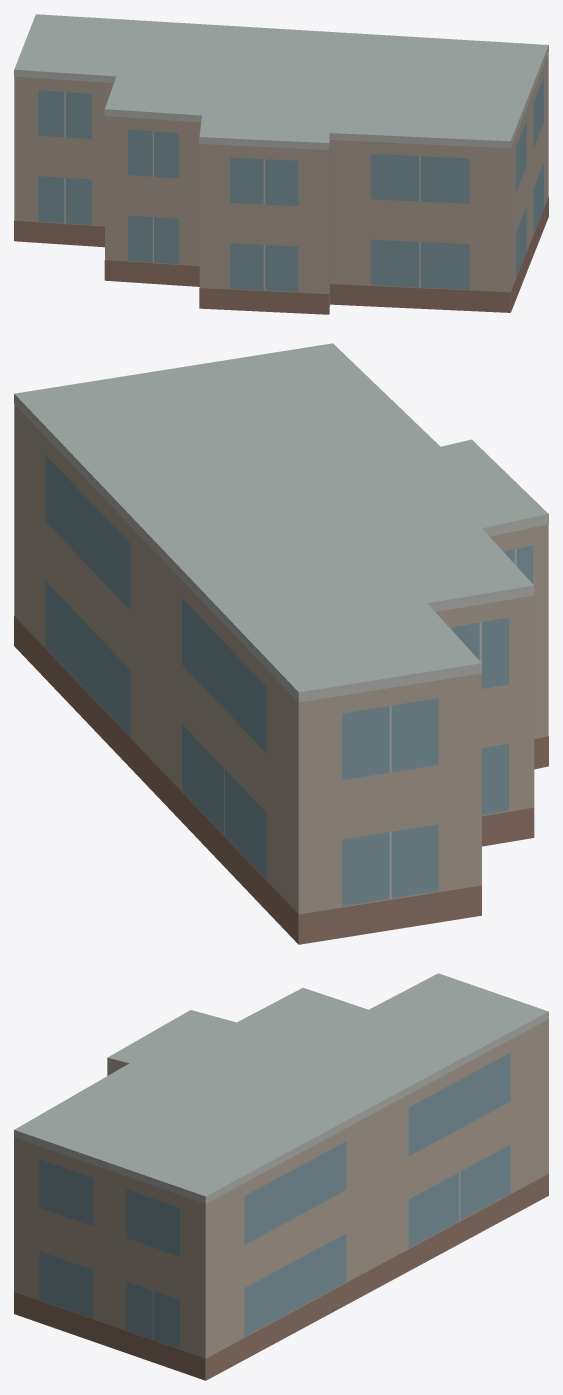
Rendered from survey-upis-32884017.glb.
The picture shows the model from 3 angles, top to bottom: view 1: azimuth 30°, elevation 25°; view 2: azimuth 150°, elevation 25°; view 3: azimuth 270°, elevation 25°; orthographic projection. The views are drawn at different scales.
Visible parts, largest first — view 1: survey-upis-32884017.tmp; view 2: survey-upis-32884017.tmp; view 3: survey-upis-32884017.tmp.
Boxes of the visible parts, x1,y1,x2,y2 form: survey-upis-32884017.tmp: [14, 14, 548, 314]; survey-upis-32884017.tmp: [14, 343, 548, 944]; survey-upis-32884017.tmp: [14, 973, 548, 1380].
Bounding box in the file's own units: 15.88 × 6.1 × 16.06.
